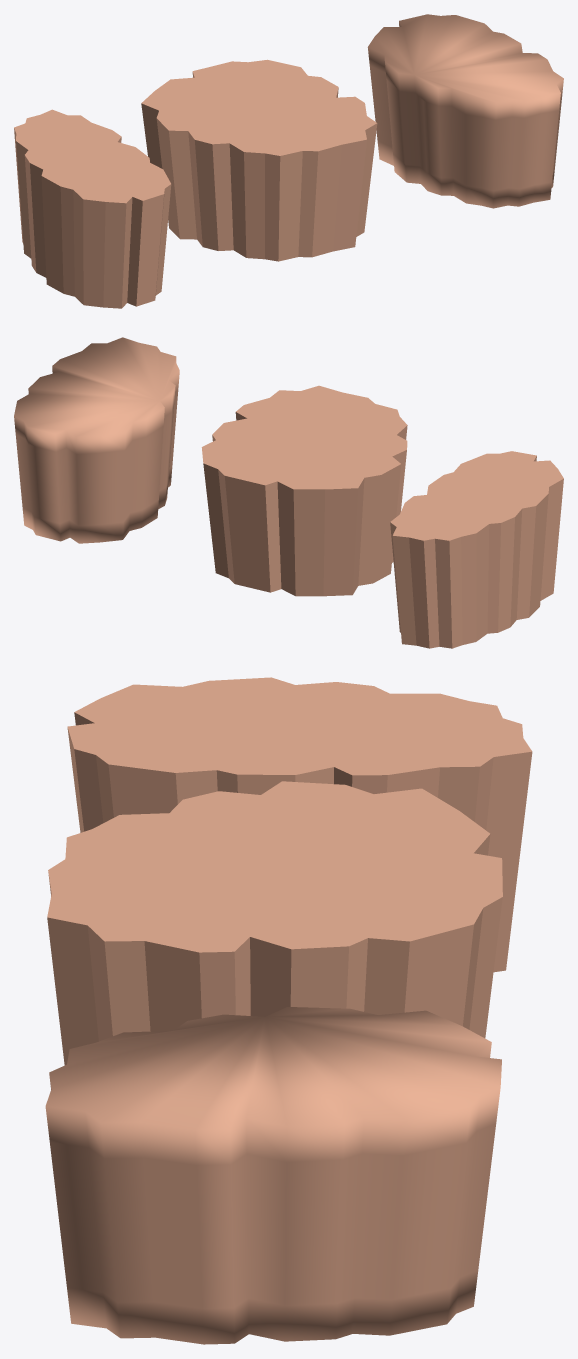
File: CANYON PARTS 2.fbx
3 renders of one model, top to bottom at view 1: azimuth 30°, elevation 25°; view 2: azimuth 150°, elevation 25°; view 3: azimuth 270°, elevation 25°, orthographic. The views are drawn at different scales.
Visible parts, largest first — view 1: Plane.011, Plane.012, Plane; view 2: Plane.011, Plane.012, Plane; view 3: Plane.012, Plane.011, Plane.
Boxes of the visible parts, bbox=[...] form: Plane.011: bbox=[141, 59, 377, 261]; Plane.012: bbox=[367, 14, 563, 208]; Plane: bbox=[14, 109, 171, 308]; Plane.011: bbox=[201, 385, 407, 596]; Plane.012: bbox=[14, 337, 179, 543]; Plane: bbox=[390, 451, 563, 648]; Plane.012: bbox=[45, 1007, 501, 1344]; Plane.011: bbox=[47, 781, 502, 1065]; Plane: bbox=[67, 677, 532, 972].
Size of the model in its own units: 17157 by 4117 by 7428.
